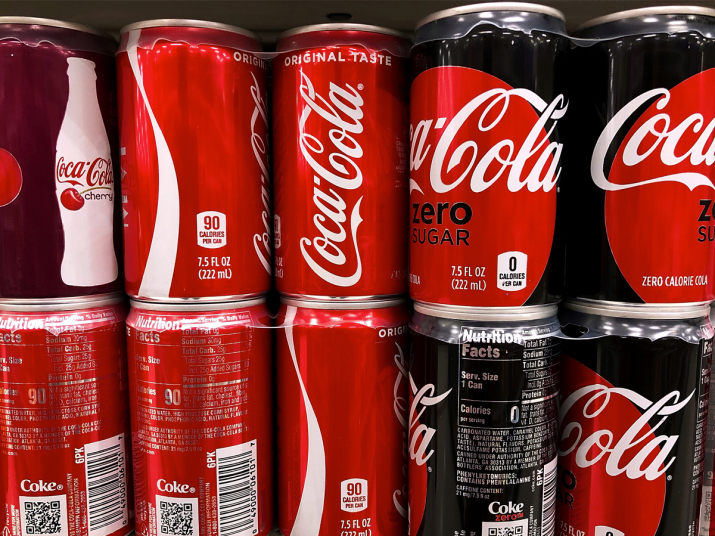coke: (117, 22, 274, 310), (279, 23, 401, 308), (132, 310, 276, 536), (3, 309, 132, 536), (279, 314, 401, 536)
